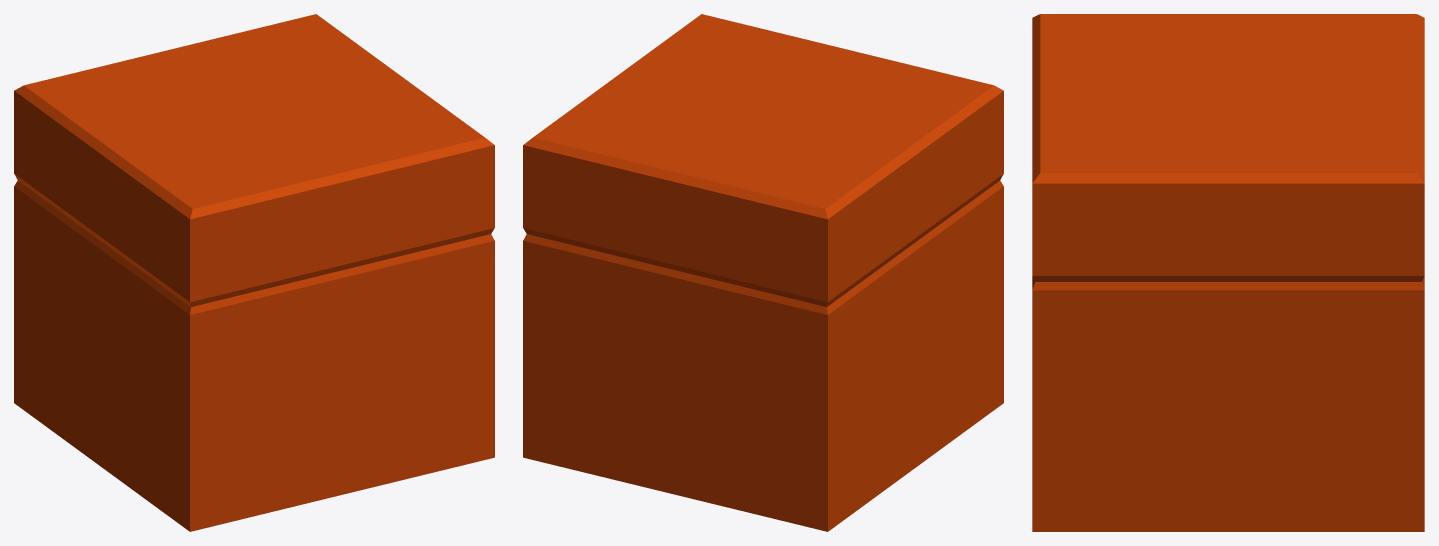
File: Floor01.obj
3 views of the same model, side by side, from view 1: azimuth 30°, elevation 25°; view 2: azimuth 150°, elevation 25°; view 3: azimuth 270°, elevation 25° (orthographic). The views are drawn at different scales.
Visible parts, largest first — view 1: Floor01_Cube.001; view 2: Floor01_Cube.001; view 3: Floor01_Cube.001.
Boxes of the visible parts, left/top/right/bottom form: Floor01_Cube.001: left=14, top=14, right=494, bottom=531; Floor01_Cube.001: left=523, top=14, right=1003, bottom=531; Floor01_Cube.001: left=1032, top=14, right=1424, bottom=531.
Size of the model in its own units: 2 by 2 by 2.
